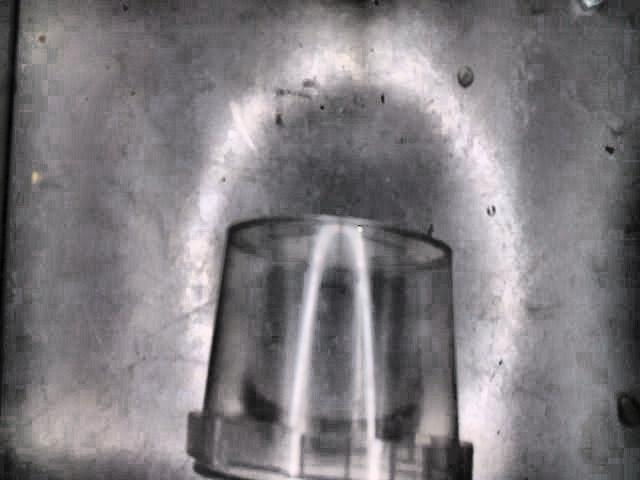Plastic: (186, 220, 471, 480)
